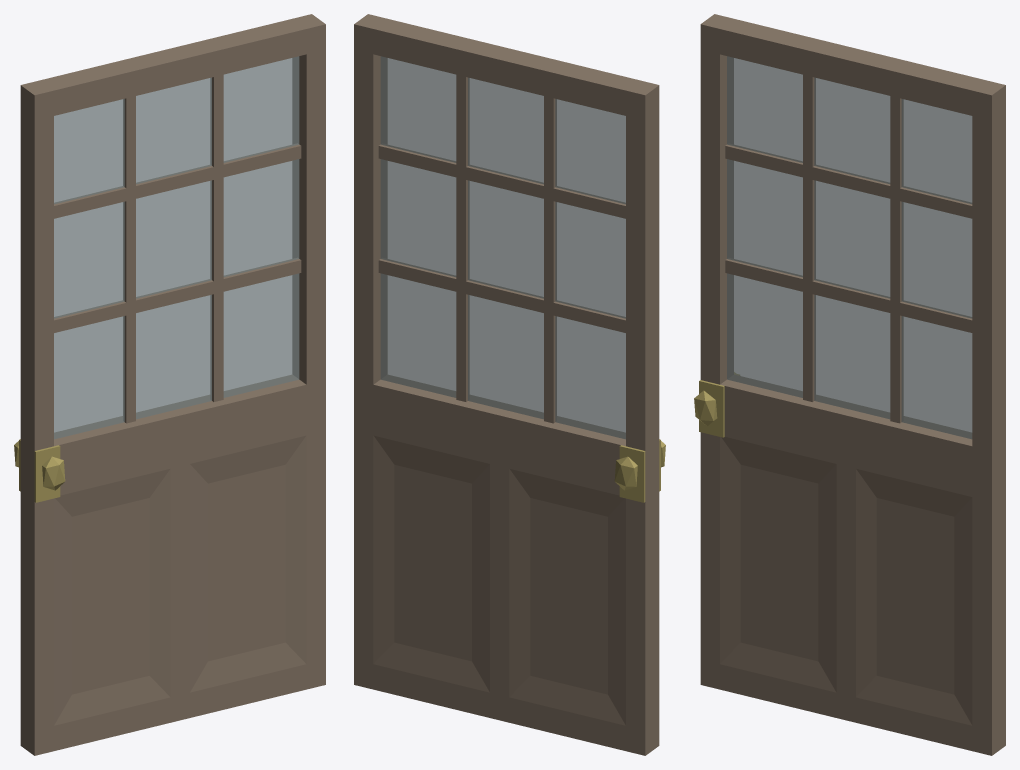
The model's file is victorian_door_1.fbx.
The picture shows the model from 3 angles, left to right: view 1: azimuth 30°, elevation 25°; view 2: azimuth 150°, elevation 25°; view 3: azimuth 330°, elevation 25°; orthographic projection.
Visible parts, largest first — view 1: door.002; view 2: door.002; view 3: door.002.
Boxes of the visible parts, box(x1,y1,x2,y2) form: door.002: box(14, 14, 325, 755); door.002: box(354, 14, 665, 755); door.002: box(694, 14, 1005, 755).
Bounding box in the file's own units: 120 × 260 × 24.33.
